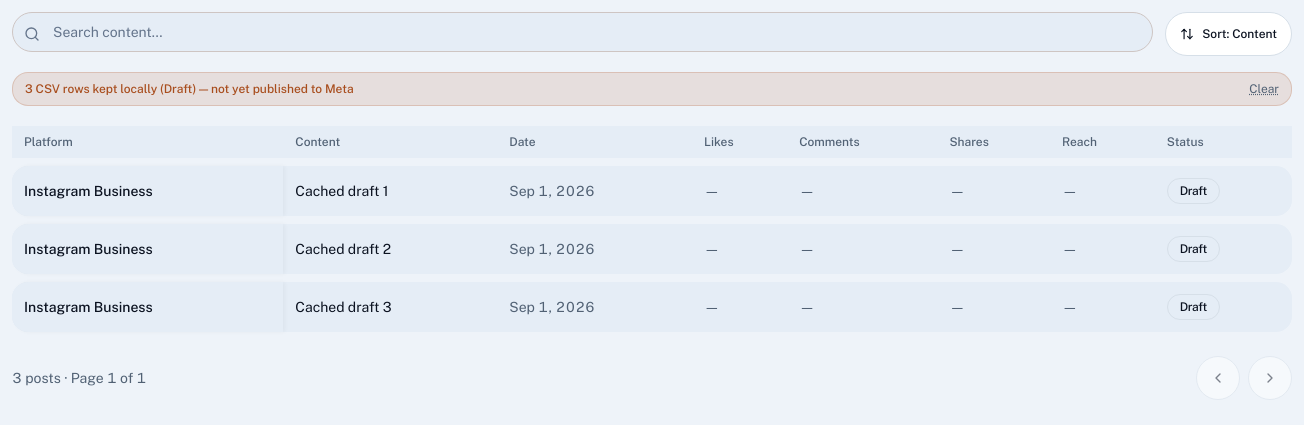
it: post-table cache scoping (logic defect #4) › 4. Clear empties the rows and removes the storage key
Click the button "Clear": (1264, 89) [1249,81,1279,97]
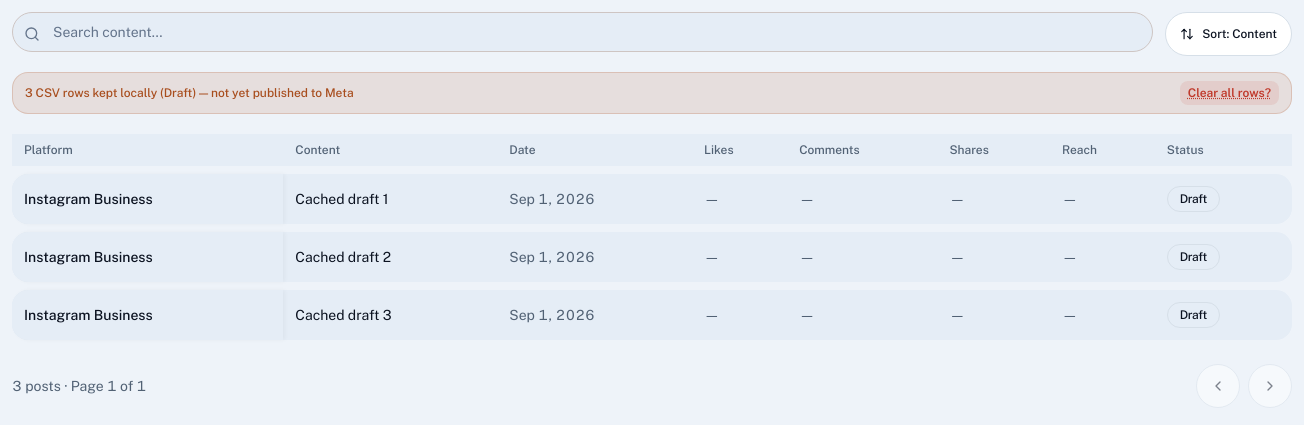
Click the button "Clear all rows?": (1229, 93) [1180,81,1279,105]
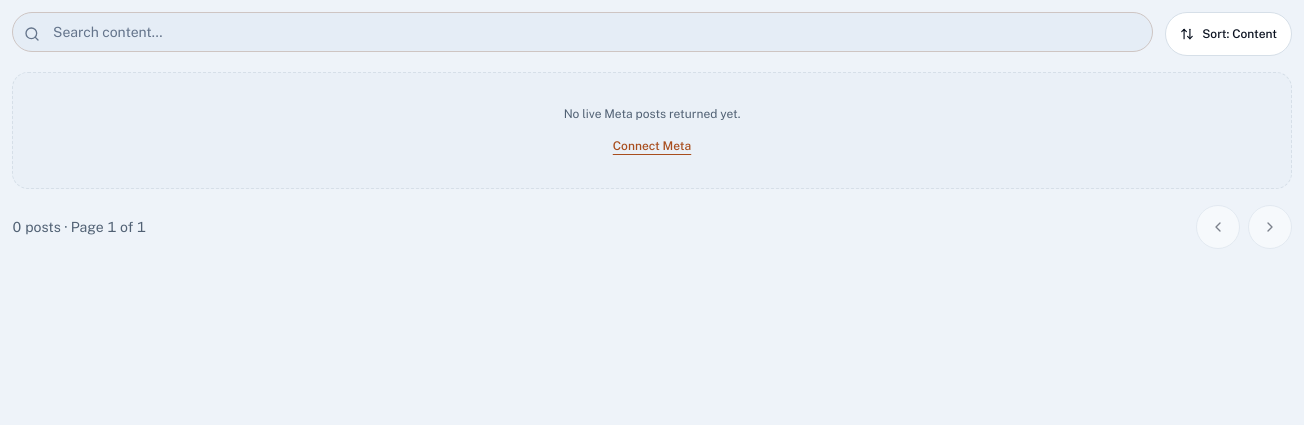
Check: the text "CSV rows kept locally" is gone
